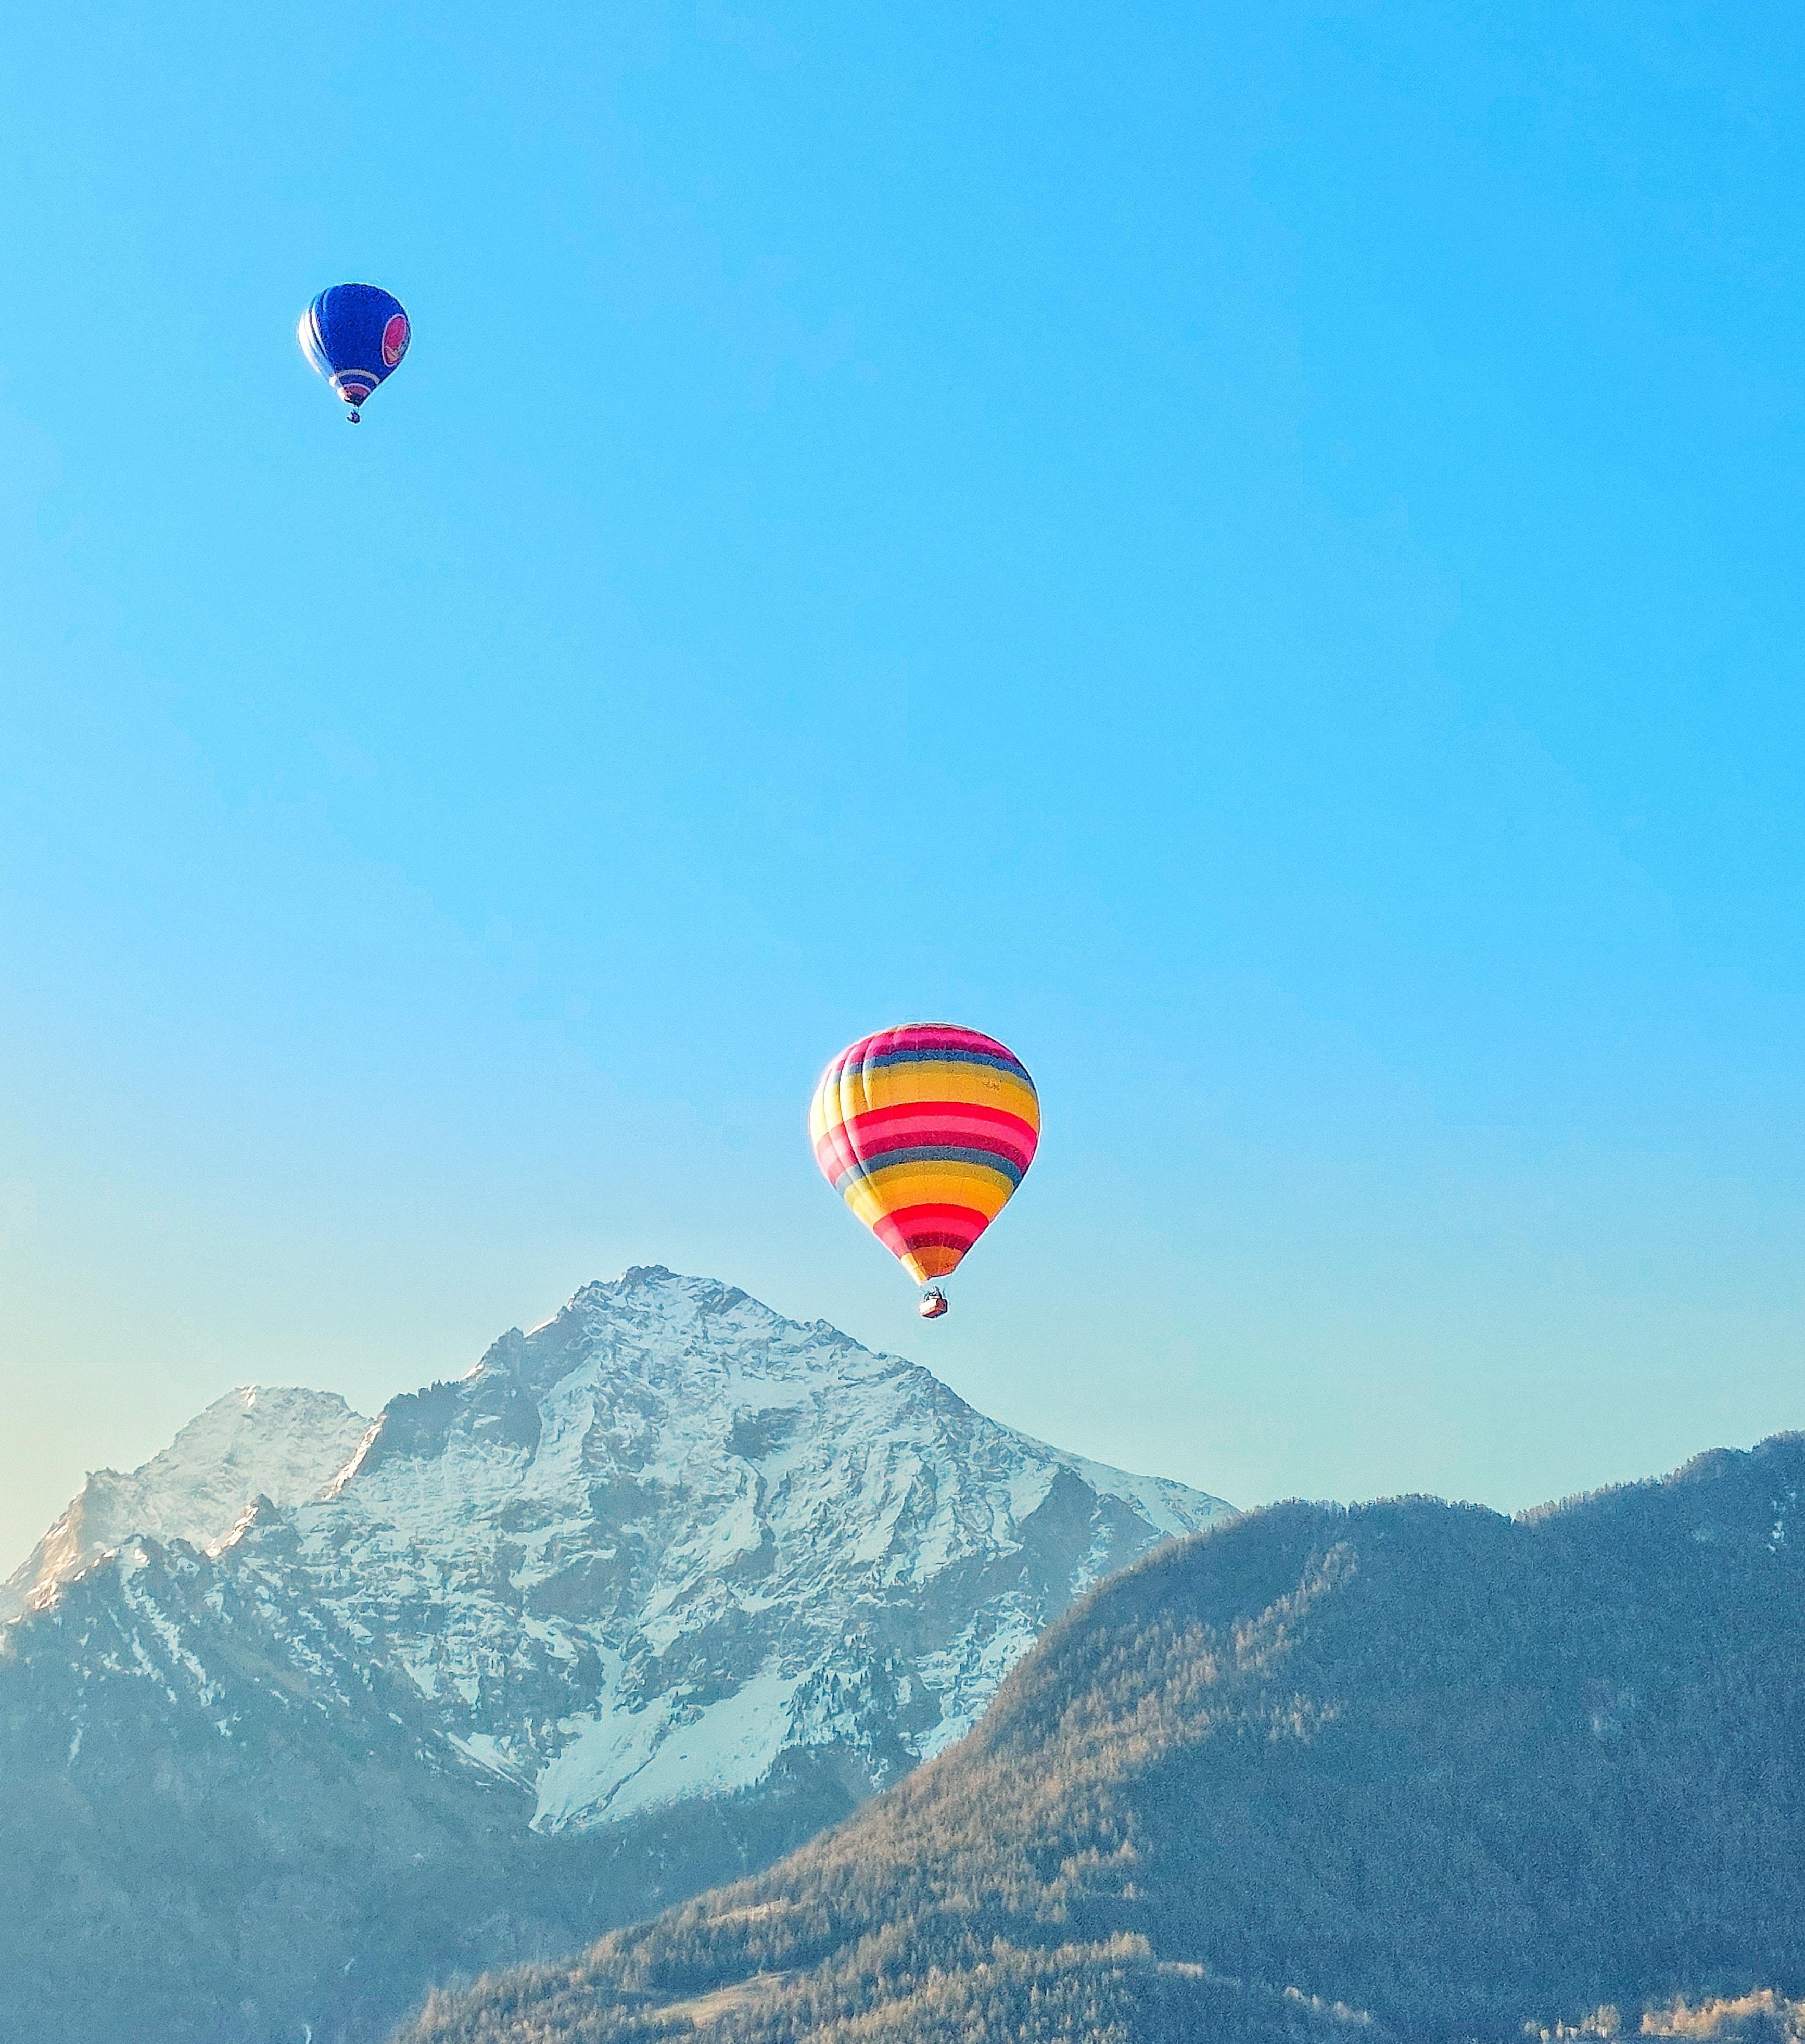hot air ballon: (788, 995, 1061, 1330), (298, 270, 427, 448)
